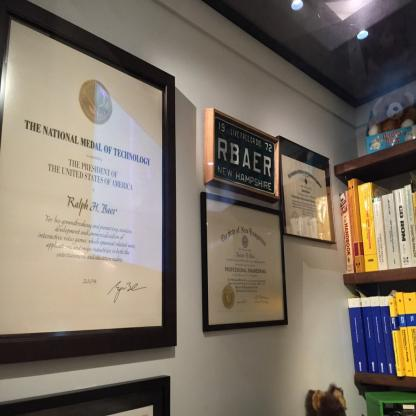book: (338, 171, 416, 264), (348, 288, 416, 368)
